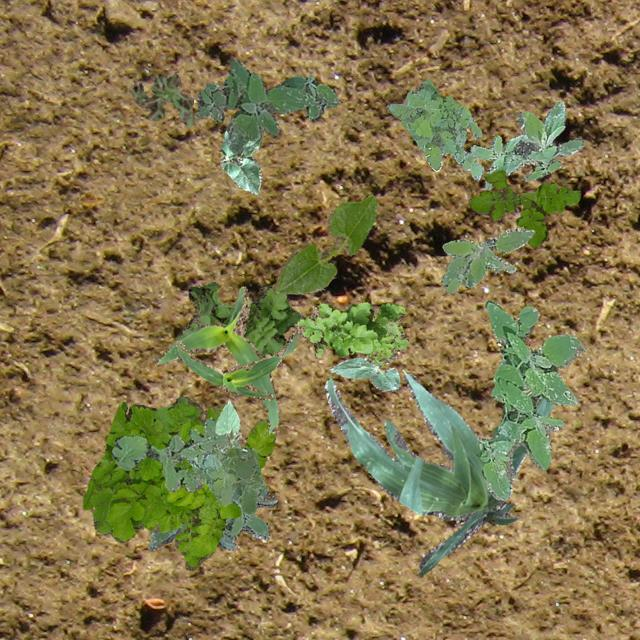crop: (323, 368, 552, 574), (152, 286, 278, 432), (272, 194, 376, 294), (174, 326, 304, 398), (218, 130, 262, 193), (329, 358, 398, 390), (214, 400, 240, 448)
weed: (82, 394, 276, 570), (476, 300, 586, 500), (195, 59, 338, 152), (468, 98, 582, 188), (386, 78, 482, 180), (110, 416, 230, 492), (180, 280, 302, 354), (468, 168, 580, 246), (147, 484, 276, 550), (292, 302, 408, 364), (439, 226, 534, 292), (180, 446, 262, 514), (130, 70, 192, 126)
